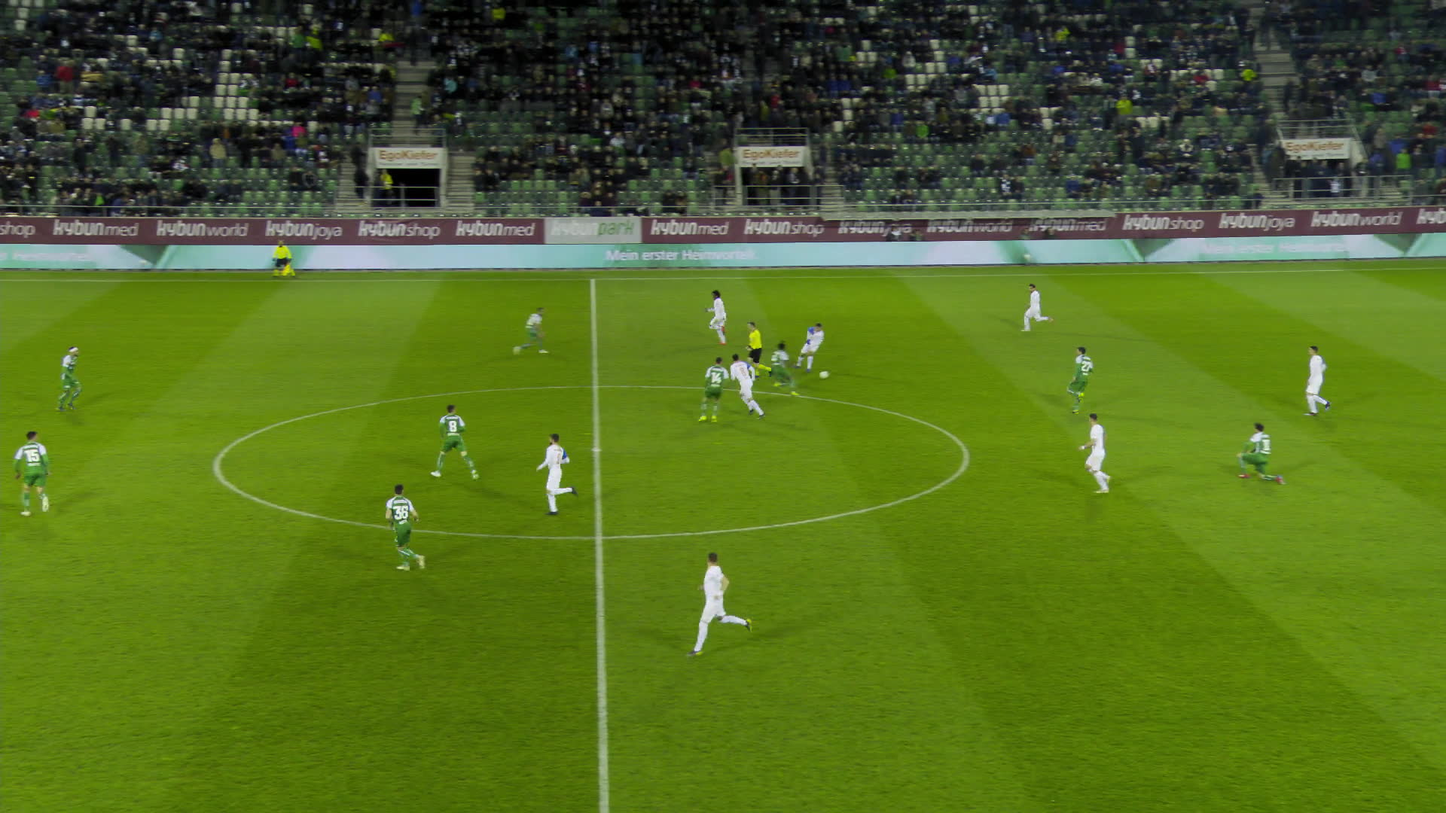ball: (810, 370, 822, 382)
player: (368, 470, 430, 579), (1074, 408, 1128, 490), (530, 433, 583, 512), (701, 557, 743, 650), (431, 403, 474, 488), (17, 424, 49, 529), (1292, 342, 1337, 414), (1054, 341, 1097, 411), (1234, 422, 1283, 483), (54, 343, 86, 419), (696, 355, 729, 428), (728, 353, 766, 416), (701, 288, 737, 347), (504, 304, 544, 357), (755, 346, 795, 397), (1015, 282, 1054, 333), (790, 317, 819, 376)
referee: (734, 320, 775, 380), (263, 235, 291, 280)
